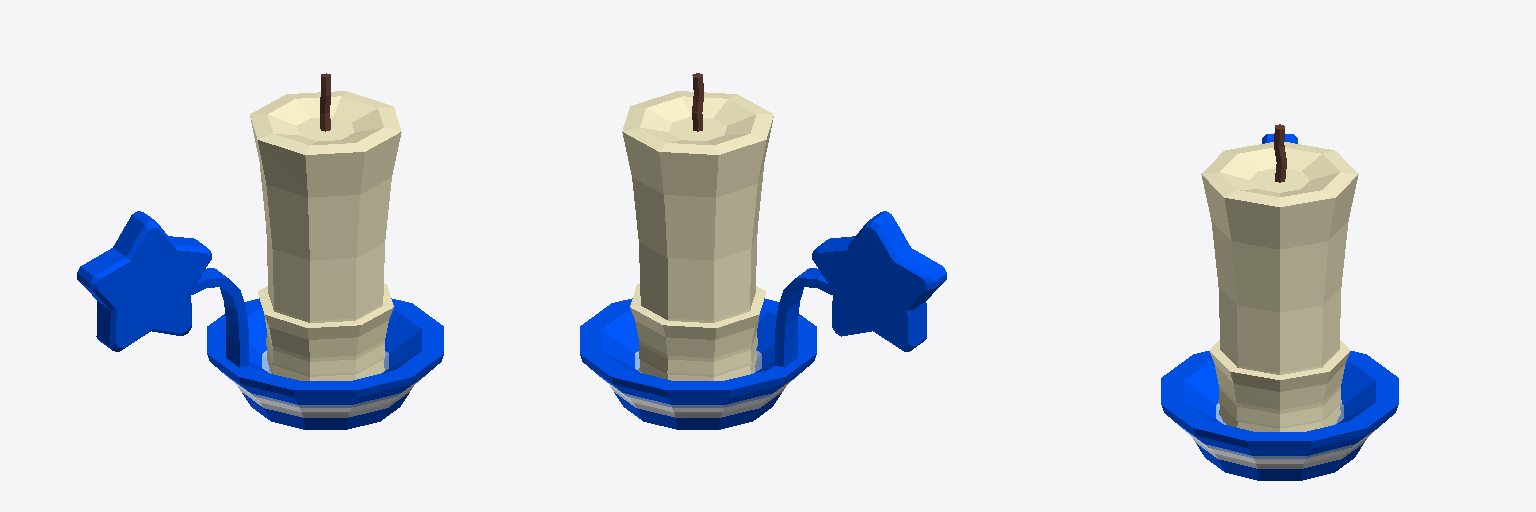
3 renders of one model, left to right at view 1: azimuth 30°, elevation 25°; view 2: azimuth 150°, elevation 25°; view 3: azimuth 270°, elevation 25°, orthographic.
Parts seen in each view (by area): view 1: polygon1_polygon1.001, polygon0_polygon0.002; view 2: polygon1_polygon1.001, polygon0_polygon0.002; view 3: polygon0_polygon0.002, polygon1_polygon1.001.
Part boxes in pixels (x1,y1,x2,y2): polygon1_polygon1.001: (77, 211, 443, 429); polygon0_polygon0.002: (250, 73, 401, 376); polygon1_polygon1.001: (580, 211, 946, 429); polygon0_polygon0.002: (622, 73, 773, 376); polygon0_polygon0.002: (1201, 124, 1358, 428); polygon1_polygon1.001: (1161, 134, 1398, 480).
Bounding box in the file's own units: 1 × 0.91 × 0.598.
1 materials, 1 textured.